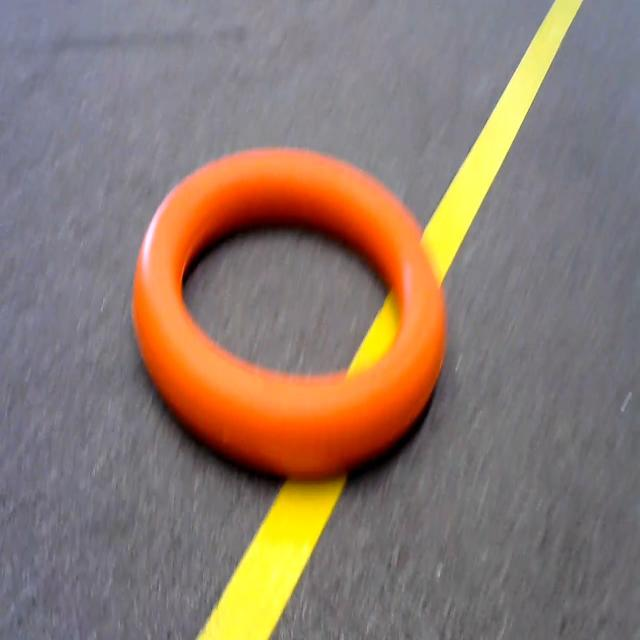note: (114, 120, 492, 511)
